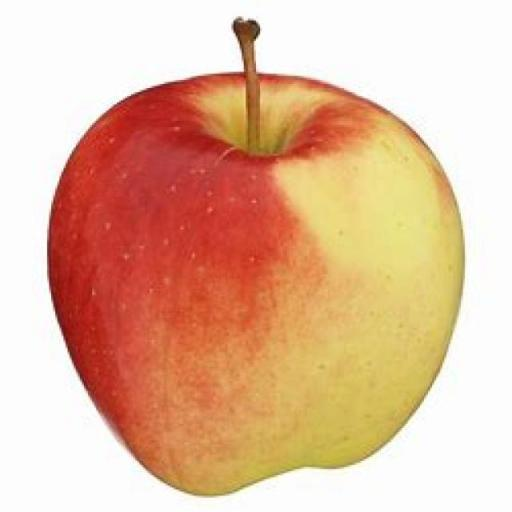fruit: (48, 21, 461, 492)
